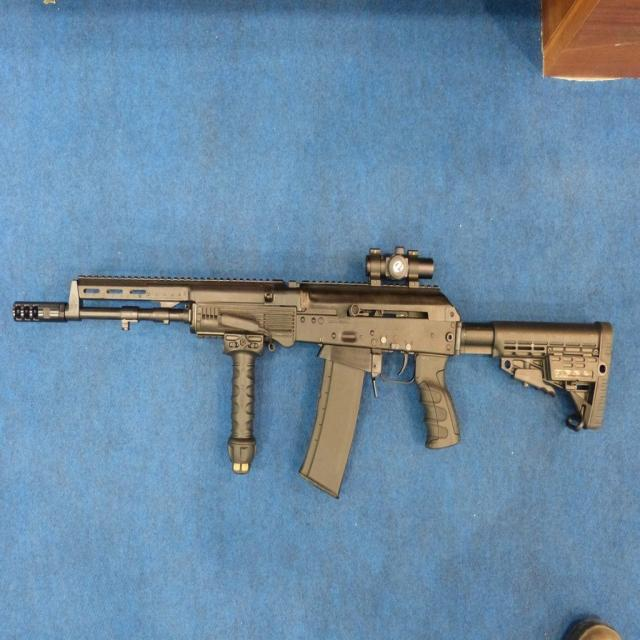firearm: (12, 249, 616, 496)
